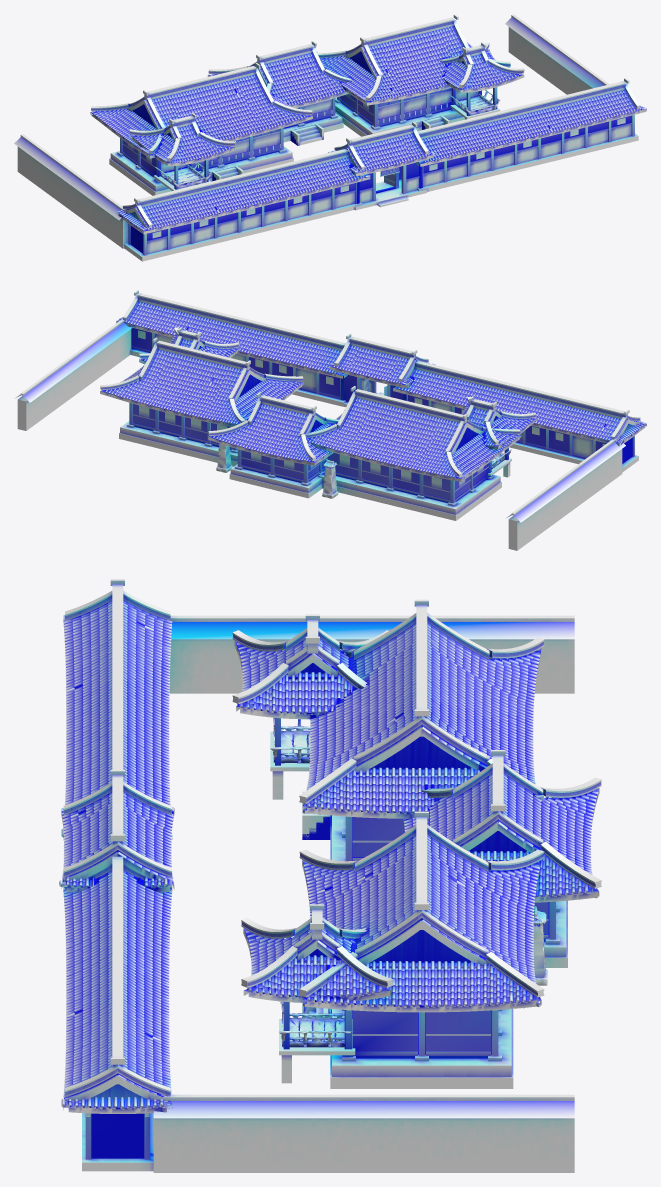
Rendered from NMJ_Geoncheonggung.fbx.
The picture shows the model from 3 angles, top to bottom: view 1: azimuth 30°, elevation 25°; view 2: azimuth 150°, elevation 25°; view 3: azimuth 270°, elevation 25°; orthographic projection. The views are drawn at different scales.
Parts seen in each view (by area): view 1: 건청궁_수키와, 건청궁_암키와, 건청궁_백골, 건청궁_꽃담, 건청궁_기단돌, 건청궁_회벽, 건청궁_양성, 건청궁_분합문, 건청궁_rail; view 2: 건청궁_수키와, 건청궁_암키와, 건청궁_백골, 건청궁_회벽, 건청궁_기단돌, 건청궁_꽃담, 건청궁_양성, 건청궁_분합문, 건청궁_chimney, 건청궁_초석; view 3: 건청궁_수키와, 건청궁_암키와, 건청궁_꽃담, 건청궁_백골, 건청궁_회벽, 건청궁_기단돌, 건청궁_양성, 건청궁_rail, 건청궁_chimney.
Part boxes in pixels (left/top/right/bottom): 건청궁_수키와: left=91, top=14, right=646, bottom=231; 건청궁_암키와: left=14, top=14, right=644, bottom=231; 건청궁_백골: left=90, top=31, right=646, bottom=255; 건청궁_꽃담: left=17, top=27, right=631, bottom=254; 건청궁_기단돌: left=109, top=98, right=638, bottom=261; 건청궁_회벽: left=122, top=51, right=631, bottom=253; 건청궁_양성: left=91, top=24, right=640, bottom=228; 건청궁_분합문: left=127, top=87, right=625, bottom=238; 건청궁_rail: left=155, top=90, right=499, bottom=188; 건청궁_수키와: left=100, top=290, right=646, bottom=478; 건청궁_암키와: left=15, top=296, right=646, bottom=522; 건청궁_백골: left=100, top=321, right=646, bottom=503; 건청궁_회벽: left=131, top=328, right=633, bottom=499; 건청궁_기단돌: left=119, top=348, right=638, bottom=520; 건청궁_꽃담: left=17, top=329, right=622, bottom=550; 건청궁_양성: left=100, top=299, right=640, bottom=477; 건청궁_분합문: left=138, top=330, right=604, bottom=489; 건청궁_chimney: left=216, top=443, right=338, bottom=498; 건청궁_초석: left=127, top=423, right=493, bottom=506; 건청궁_수키와: left=59, top=579, right=601, bottom=1109; 건청궁_암키와: left=61, top=595, right=601, bottom=1118; 건청궁_꽃담: left=153, top=639, right=574, bottom=1172; 건청궁_백골: left=61, top=620, right=599, bottom=1159; 건청궁_회벽: left=91, top=663, right=548, bottom=1158; 건청궁_기단돌: left=82, top=771, right=567, bottom=1171; 건청궁_양성: left=63, top=599, right=601, bottom=1097; 건청궁_rail: left=270, top=717, right=353, bottom=1047; 건청궁_chimney: left=533, top=906, right=547, bottom=985.
Size of the model in its own units: 53.7 by 8.73 by 24.89.
